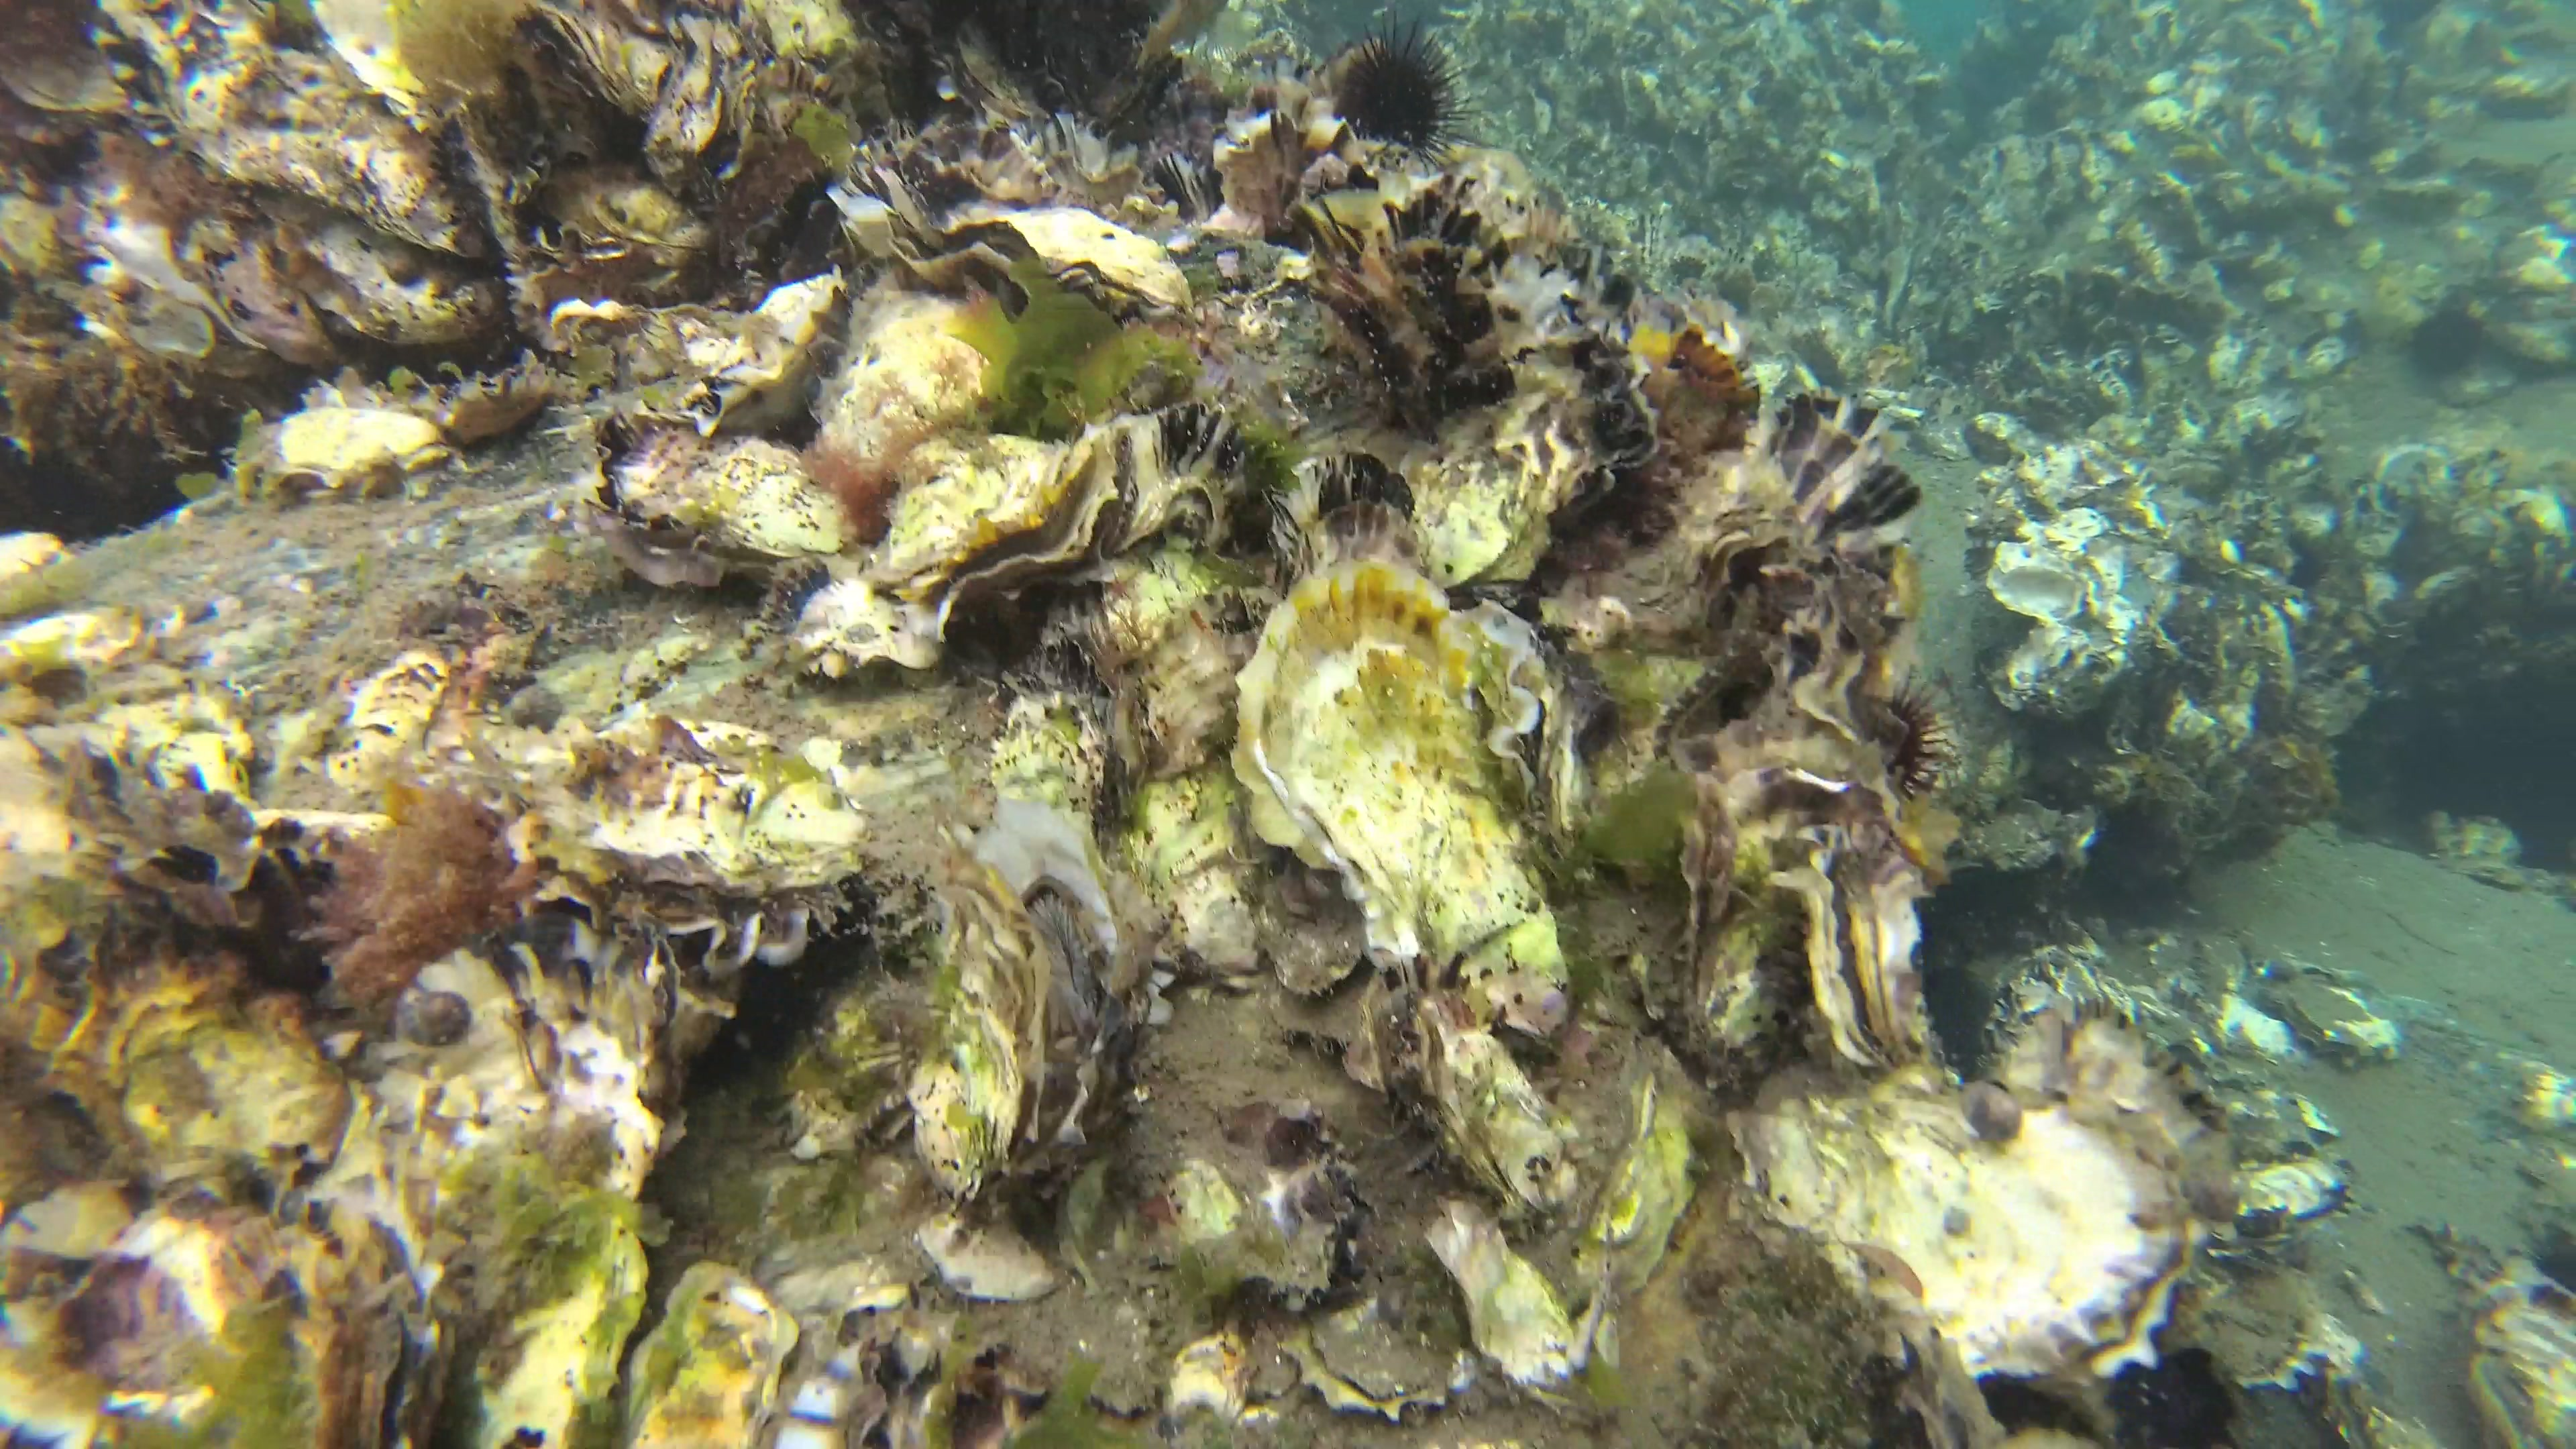echinus: (1332, 18, 1470, 156), (1886, 667, 1955, 796), (2401, 292, 2489, 391)
